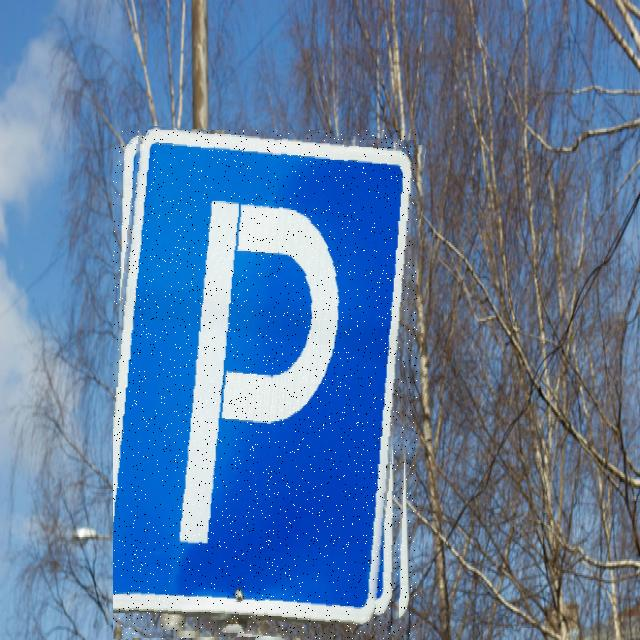parking: (113, 130, 417, 639)
